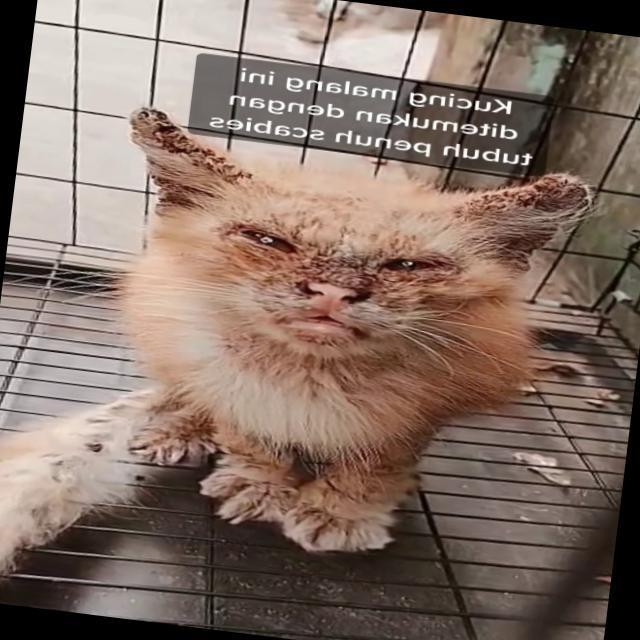ghe: (232, 215, 404, 331), (127, 123, 240, 229), (428, 180, 586, 251)
